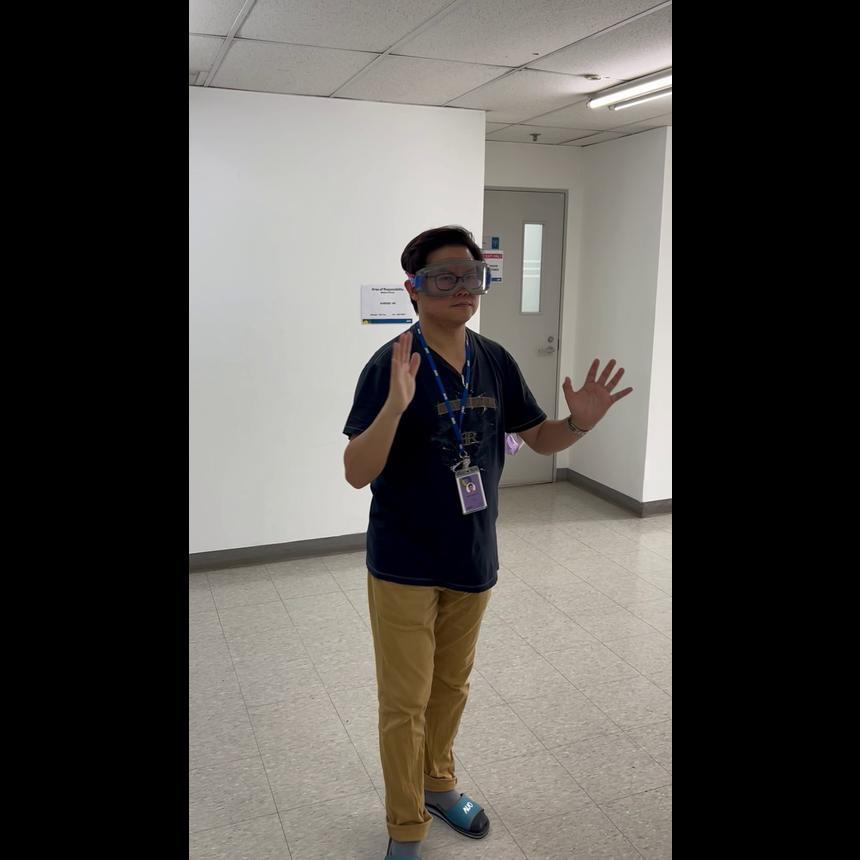No-gloves: (559, 350, 631, 428), (379, 330, 419, 405)
